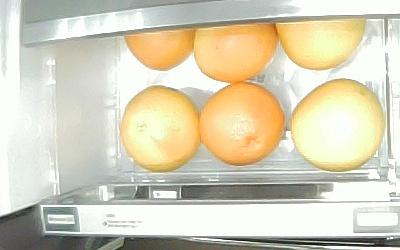grapefruit: (290, 79, 386, 171), (119, 85, 200, 173), (200, 83, 284, 166), (194, 22, 279, 83), (276, 16, 364, 70), (125, 27, 195, 72)
